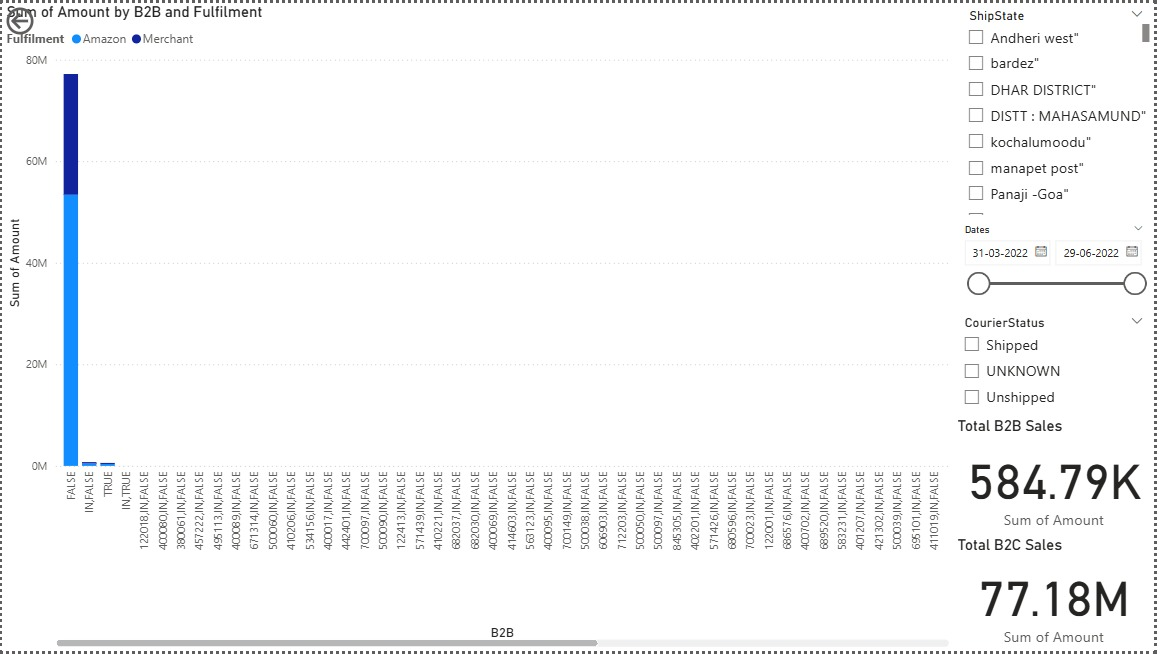

What the dashboard file says about the page in this screenshot:
{"tool":"powerbi","page":{"name":"Page 4","canvas":[1280,720],"ordinal":3},"visuals":[{"type":"columnChart","fields":{"Series":["SalesData.Fulfilment"],"Category":["SalesData.B2B"],"Y":["Sum(SalesData.Amount)"]},"box":[0,0,1056.7,720],"z":0},{"type":"actionButton","box":[0,0,100,40],"z":2000},{"type":"slicer","fields":{"Values":["SalesData.ShipState"]},"box":[1061.7,0,218.3,240],"z":2001},{"type":"slicer","fields":{"Values":["SalesData.Dates"]},"box":[1056.7,240,223.3,101.7],"z":2002},{"type":"slicer","fields":{"Values":["SalesData.CourierStatus"]},"box":[1056.7,341.7,223.3,118.3],"z":2003},{"type":"card","title":"Total B2B Sales","fields":{"Values":["Sum(SalesData.Amount)"]},"box":[1056.7,460,223.3,131.7],"z":2004},{"type":"card","title":"Total B2C Sales","fields":{"Values":["Sum(SalesData.Amount)"]},"box":[1056.7,591.7,223.3,128.3],"z":2005}]}

Visuals, with their boxes in screenshot pixels (x1, y1, x2, y2), scaled from the page's 1280x720 canvas onto the 1160x654 screenshot:
columnChart - SalesData.Fulfilment x SalesData.B2B: {"x1": 0, "y1": 0, "x2": 958, "y2": 653}
actionButton: {"x1": 0, "y1": 0, "x2": 91, "y2": 36}
slicer - SalesData.ShipState: {"x1": 962, "y1": 0, "x2": 1159, "y2": 218}
slicer - SalesData.Dates: {"x1": 958, "y1": 218, "x2": 1159, "y2": 310}
slicer - SalesData.CourierStatus: {"x1": 958, "y1": 310, "x2": 1159, "y2": 418}
"Total B2B Sales" card: {"x1": 958, "y1": 418, "x2": 1159, "y2": 537}
"Total B2C Sales" card: {"x1": 958, "y1": 537, "x2": 1159, "y2": 653}
